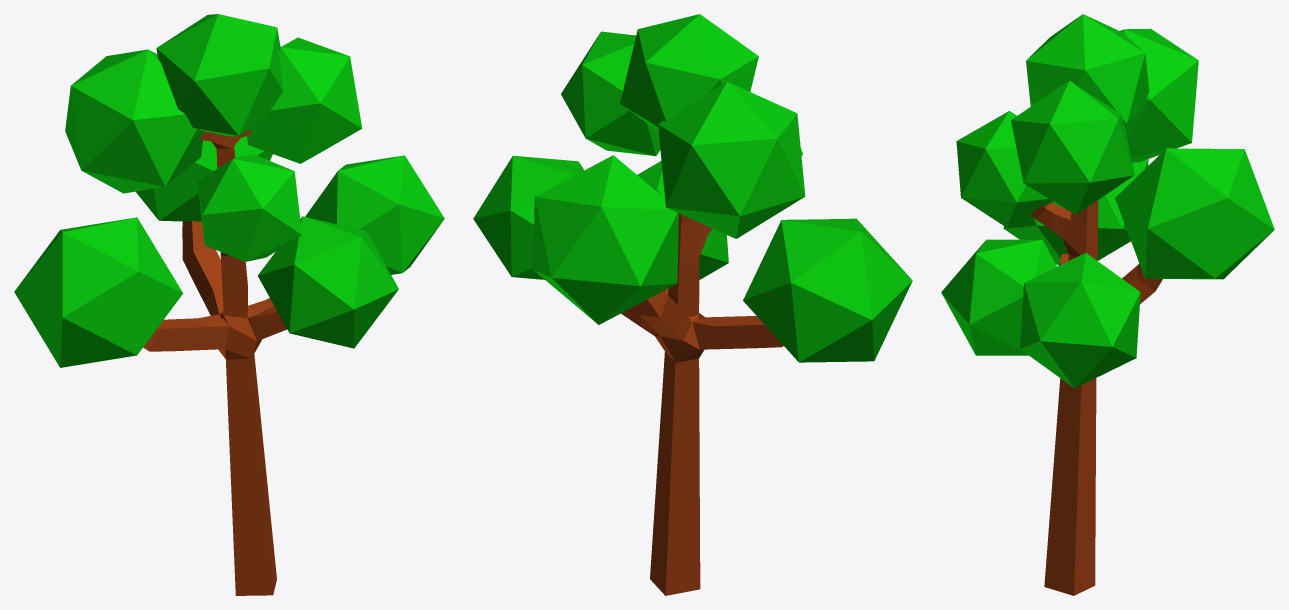
Rendered from tree1.obj.
3 views of the same model, side by side, from view 1: azimuth 30°, elevation 25°; view 2: azimuth 150°, elevation 25°; view 3: azimuth 270°, elevation 25° (orthographic). The views are drawn at different scales.
Visible parts, largest first — view 1: Cube, Icosphere, Icosphere.003, Icosphere.006, Icosphere.001, Icosphere.002, Icosphere.007, Icosphere.004, Icosphere.005; view 2: Cube, Icosphere, Icosphere.005, Icosphere.003, Icosphere.001, Icosphere.002, Icosphere.007, Icosphere.006; view 3: Icosphere.005, Cube, Icosphere.007, Icosphere.002, Icosphere.006, Icosphere.001, Icosphere.003, Icosphere.004, Icosphere.
Boxes of the visible parts, bbox=[...] form: Cube: bbox=[143, 130, 286, 595]; Icosphere: bbox=[14, 217, 183, 367]; Icosphere.003: bbox=[65, 49, 203, 193]; Icosphere.006: bbox=[257, 216, 398, 348]; Icosphere.001: bbox=[156, 14, 282, 136]; Icosphere.002: bbox=[246, 37, 362, 163]; Icosphere.007: bbox=[305, 155, 444, 274]; Icosphere.004: bbox=[197, 154, 301, 261]; Icosphere.005: bbox=[136, 136, 272, 221]; Cube: bbox=[621, 213, 783, 595]; Icosphere: bbox=[743, 218, 912, 362]; Icosphere.005: bbox=[533, 155, 678, 324]; Icosphere.003: bbox=[658, 81, 805, 238]; Icosphere.001: bbox=[620, 14, 758, 131]; Icosphere.002: bbox=[561, 31, 660, 156]; Icosphere.007: bbox=[473, 155, 584, 279]; Icosphere.006: bbox=[637, 161, 728, 279]; Icosphere.005: bbox=[1115, 148, 1274, 279]; Cube: bbox=[1031, 200, 1162, 595]; Icosphere.007: bbox=[1020, 253, 1140, 388]; Icosphere.002: bbox=[1011, 80, 1134, 214]; Icosphere.006: bbox=[941, 239, 1056, 355]; Icosphere.001: bbox=[1026, 14, 1149, 125]; Icosphere.003: bbox=[1120, 28, 1198, 162]; Icosphere.004: bbox=[956, 111, 1052, 227]; Icosphere: bbox=[1003, 159, 1148, 265].
Size of the model in its own units: 2.22 by 3.1 by 1.68.
